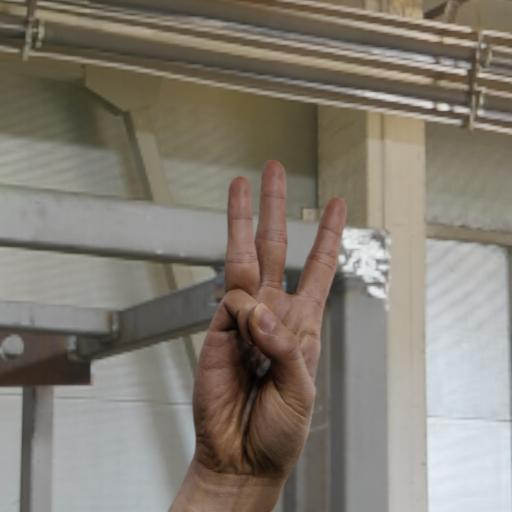W: (135, 117, 387, 512)
